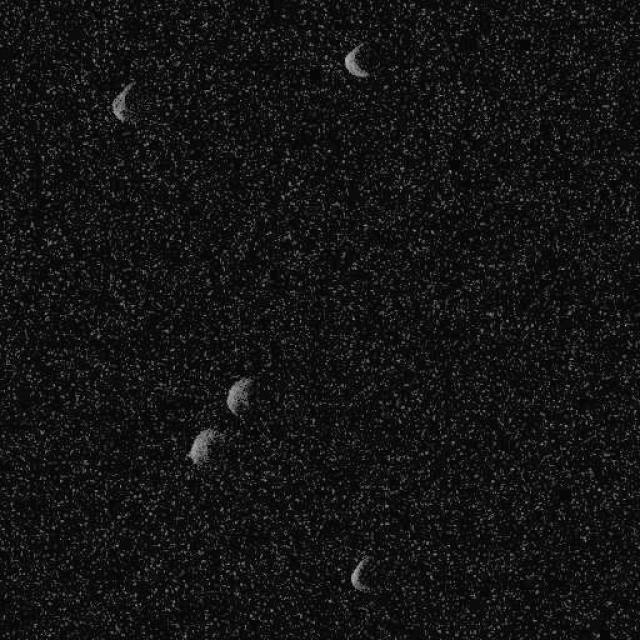D2: (186, 426, 222, 465), (225, 375, 256, 417), (109, 78, 135, 124), (342, 41, 373, 79), (348, 554, 372, 592)
